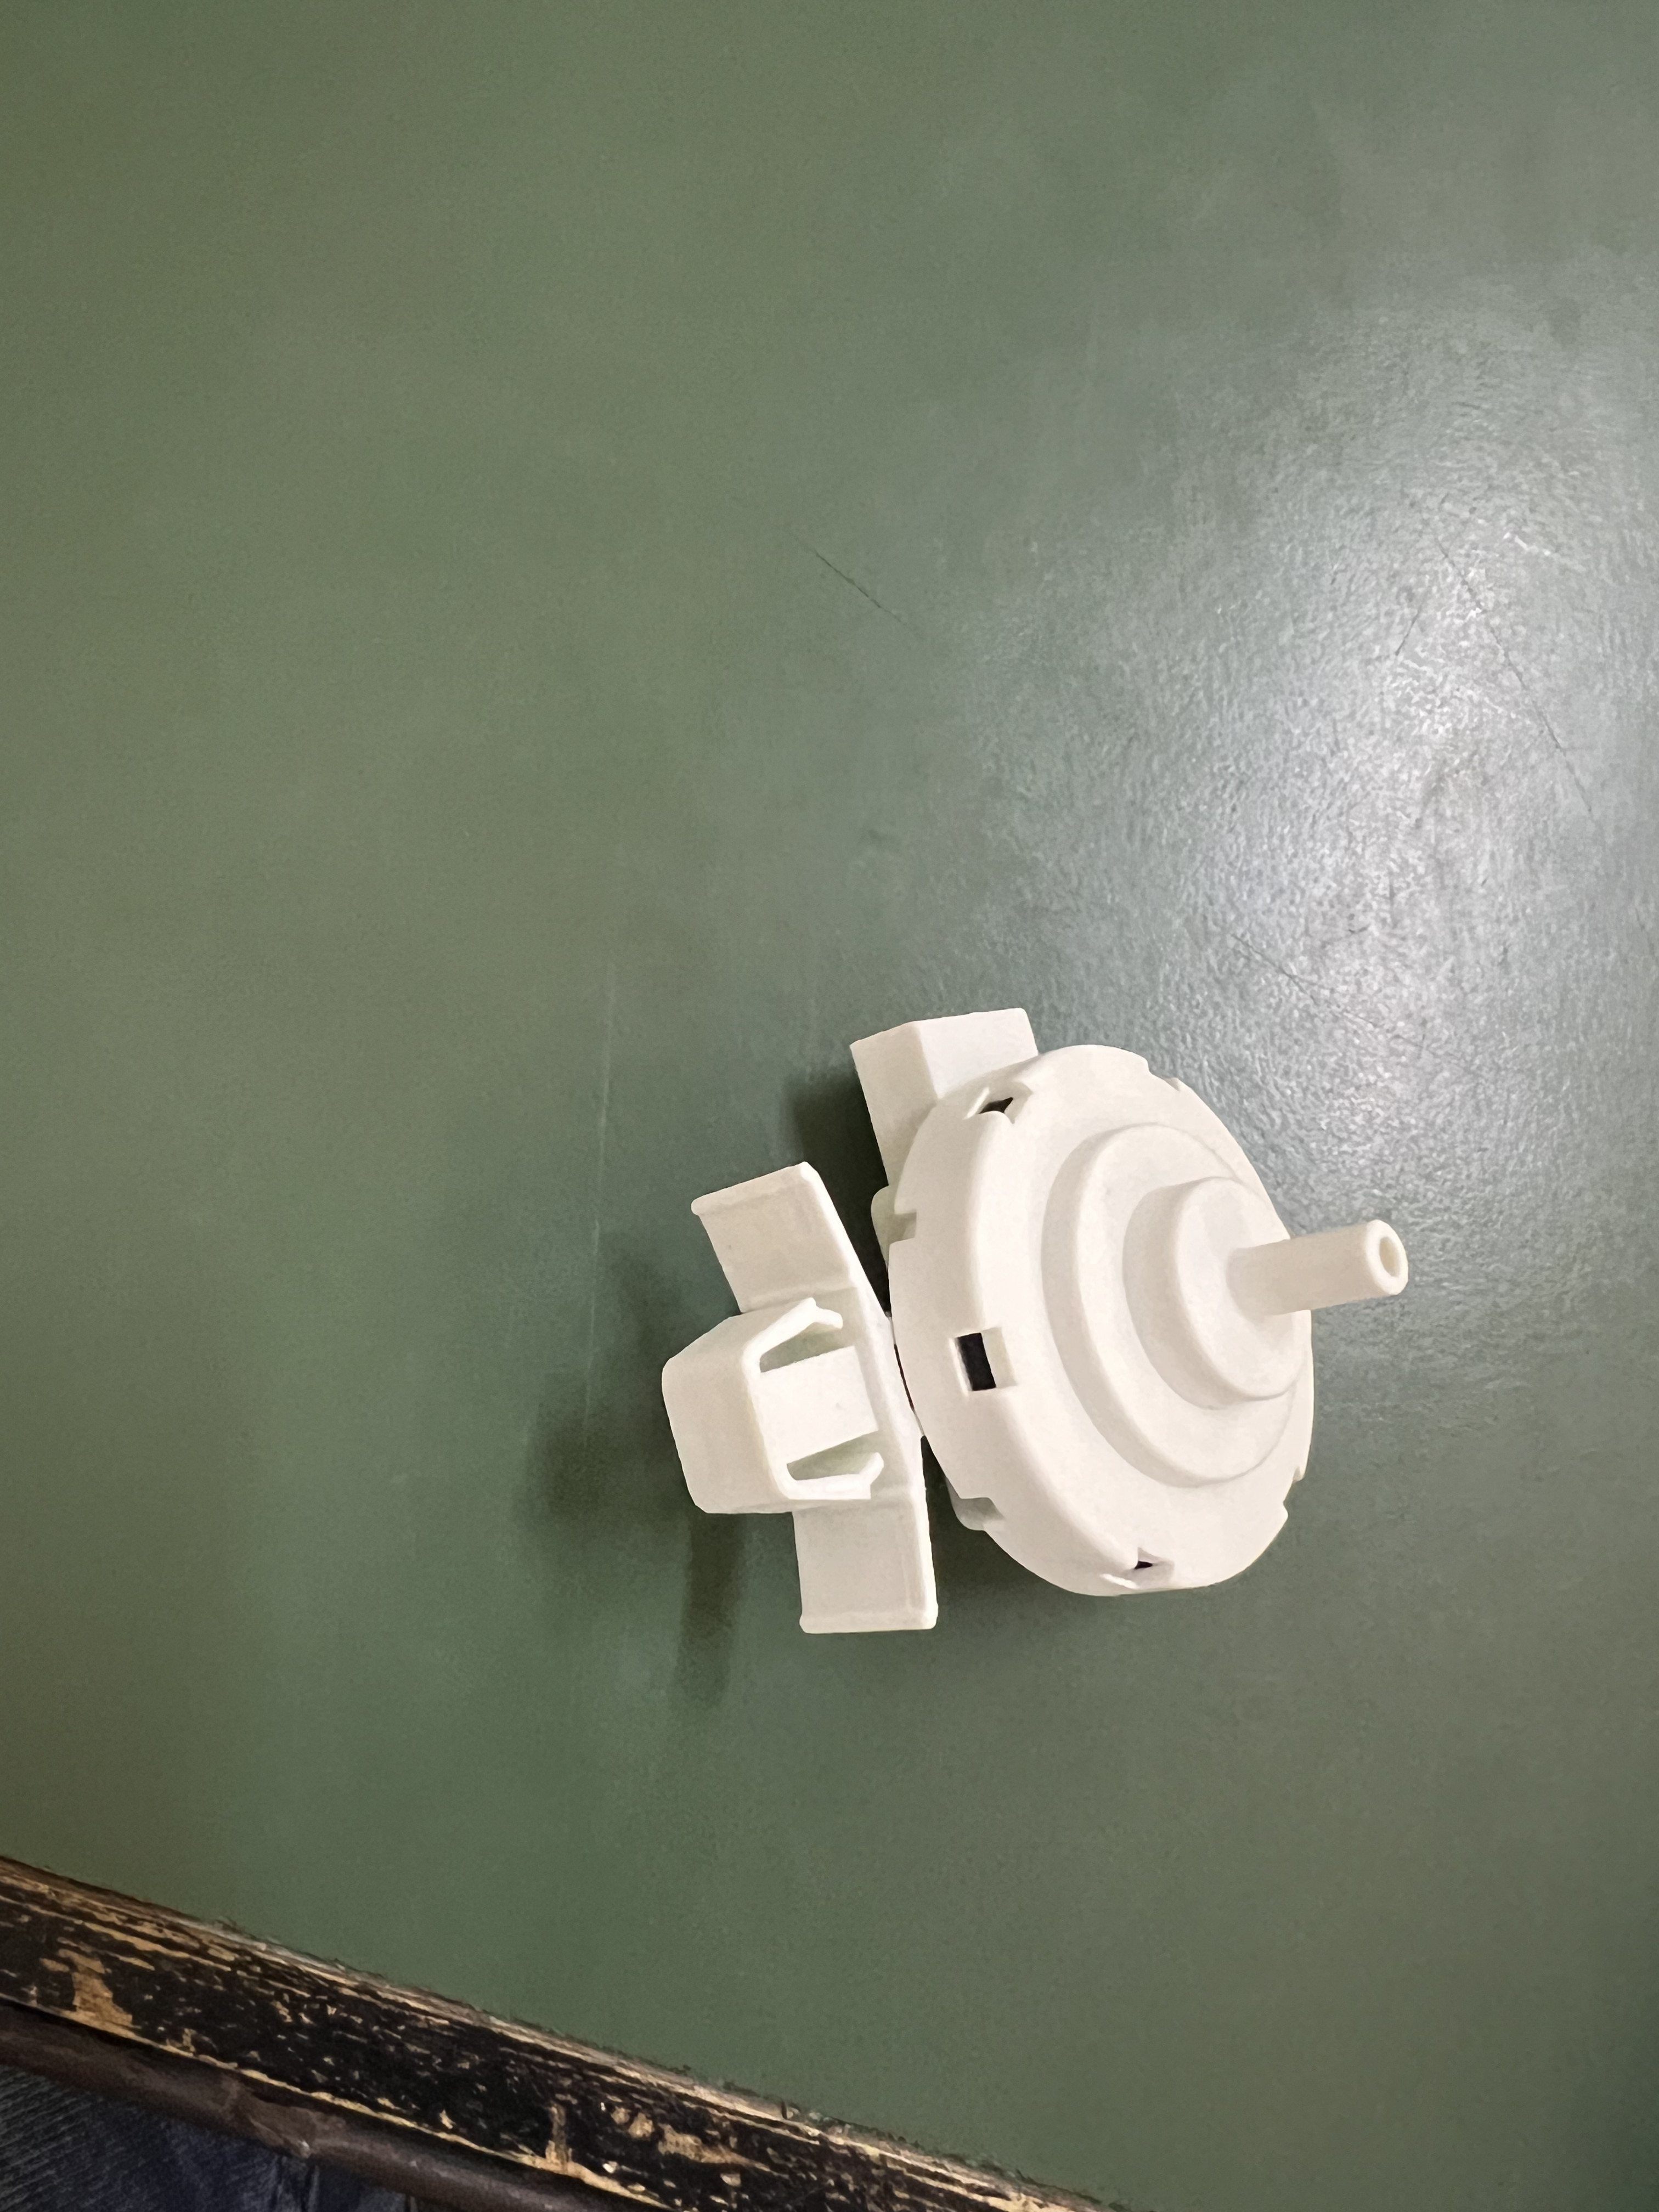pressure_switch_2: (669, 984, 1427, 1693)
